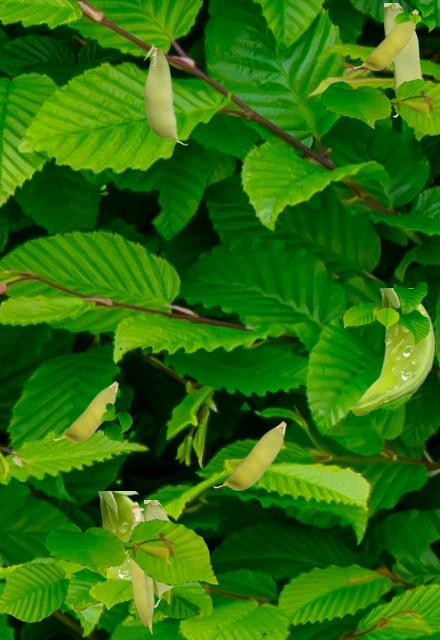pea: (350, 288, 433, 414), (70, 491, 143, 610), (213, 421, 285, 489), (143, 44, 187, 144), (384, 3, 420, 116), (53, 381, 117, 441), (353, 9, 417, 69), (144, 500, 175, 606), (129, 501, 153, 633)
